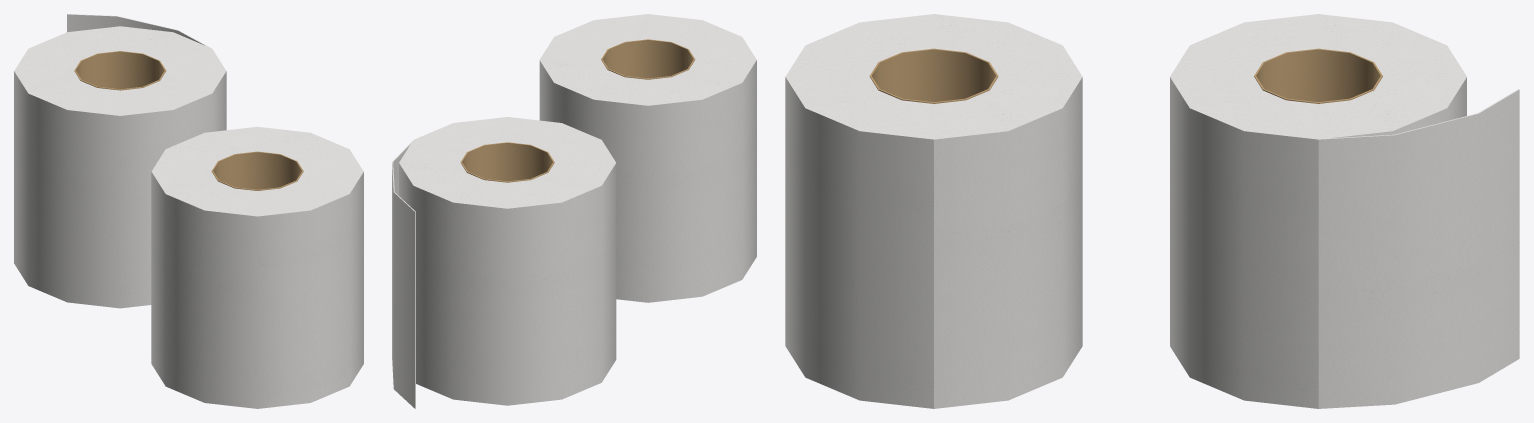
Rendered from Toilet Paper.fbx.
3 views of the same model, side by side, from view 1: azimuth 30°, elevation 25°; view 2: azimuth 150°, elevation 25°; view 3: azimuth 270°, elevation 25° (orthographic). The views are drawn at different scales.
Parts seen in each view (by area): view 1: Toilet Paper.001, Toilet Paper; view 2: Toilet Paper, Toilet Paper.001; view 3: Toilet Paper, Toilet Paper.001.
Boxes of the visible parts, left/top/right/bottom form: Toilet Paper.001: left=151, top=126, right=363, bottom=408; Toilet Paper: left=14, top=14, right=226, bottom=308; Toilet Paper: left=392, top=117, right=616, bottom=408; Toilet Paper.001: left=539, top=14, right=756, bottom=302; Toilet Paper: left=1170, top=14, right=1519, bottom=408; Toilet Paper.001: left=785, top=14, right=1082, bottom=408.
Size of the model in its own units: 200 by 201 by 494.
